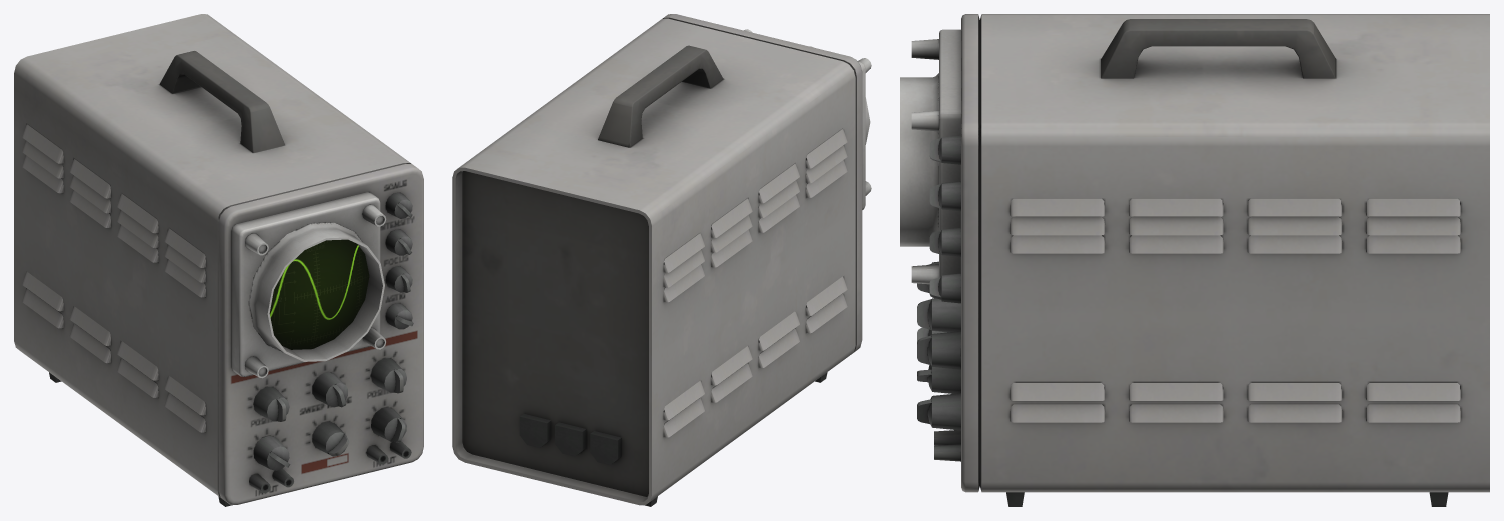
File: oscilloscope.fbx
3 views of the same model, side by side, from view 1: azimuth 30°, elevation 25°; view 2: azimuth 150°, elevation 25°; view 3: azimuth 270°, elevation 25° (orthographic). The views are drawn at different scales.
Parts seen in each view (by area): view 1: oscilloscope; view 2: oscilloscope; view 3: oscilloscope.
Part boxes in pixels (x1,y1,x2,y2): oscilloscope: (14,14,423,506); oscilloscope: (452,14,871,506); oscilloscope: (900,14,1489,506).
Size of the model in its own units: 1783 by 2820 by 3480.
